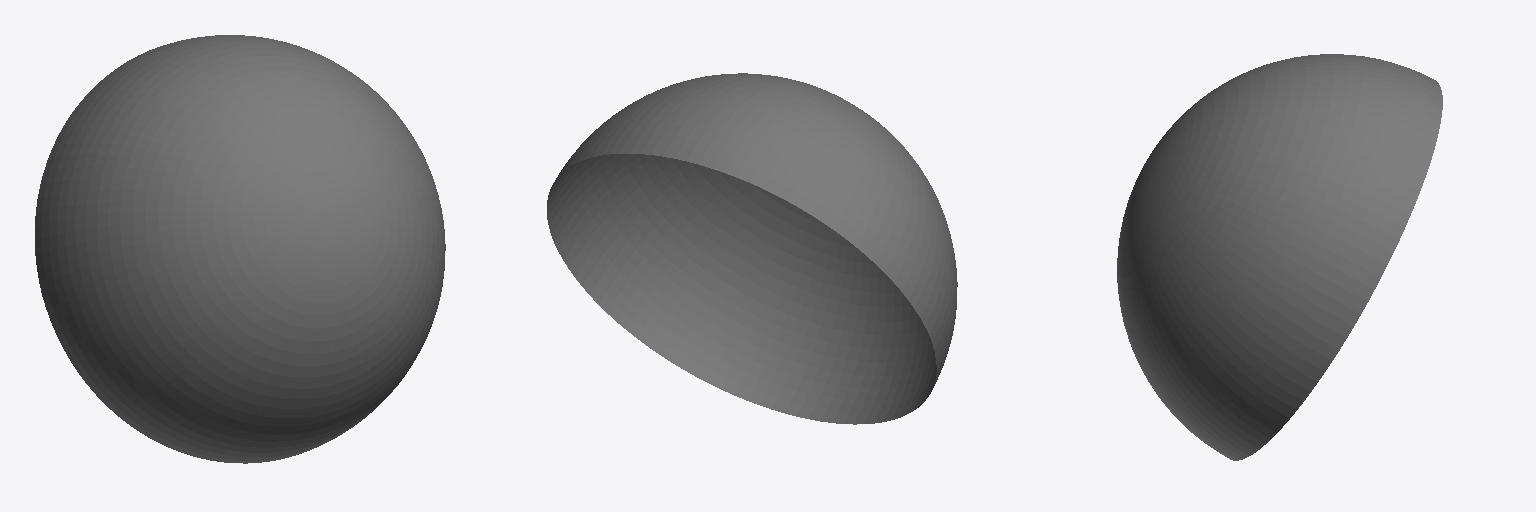
Rendered from shaderball_hd_ball_inside.obj.
The picture shows the model from 3 angles: view 1: azimuth 30°, elevation 25°; view 2: azimuth 150°, elevation 25°; view 3: azimuth 270°, elevation 25°; orthographic projection.
Visible parts, largest first — view 1: GrayBackground model_tris; view 2: GrayBackground model_tris; view 3: GrayBackground model_tris.
Boxes of the visible parts, <box> form: GrayBackground model_tris: <box>35,35,445,463</box>; GrayBackground model_tris: <box>547,73,957,424</box>; GrayBackground model_tris: <box>1117,54,1442,460</box>.
Bounding box in the file's own units: 196 × 181 × 147.